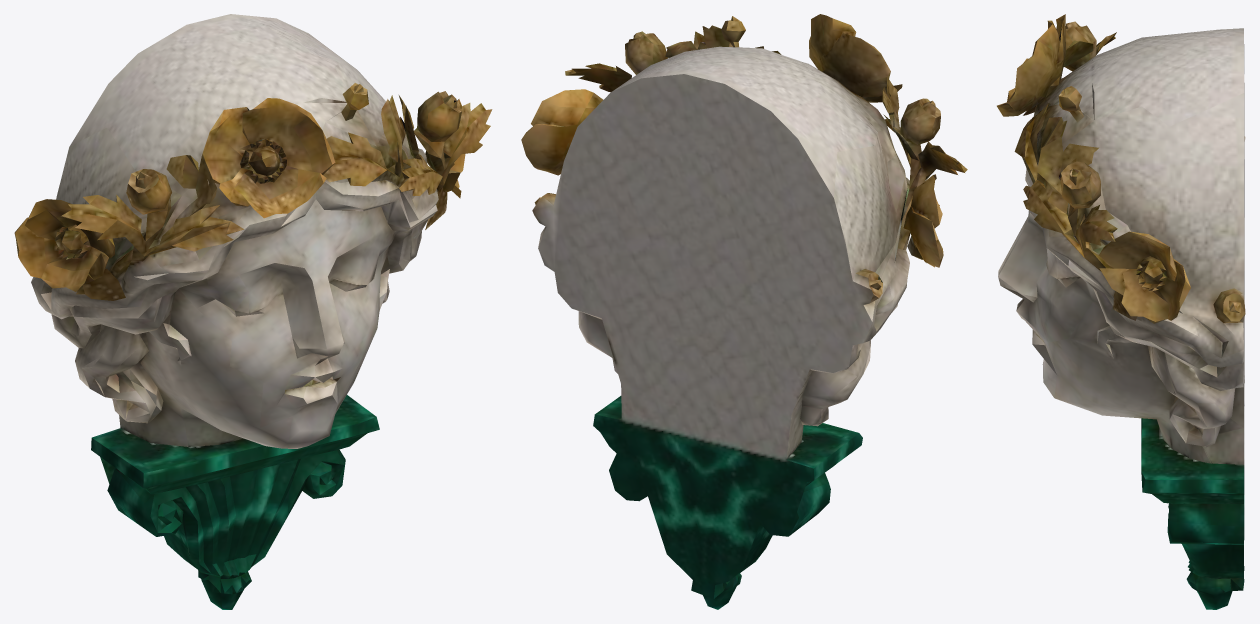
File: P12_mask_game.glb
The picture shows the model from 3 angles, left to right: view 1: azimuth 30°, elevation 25°; view 2: azimuth 150°, elevation 25°; view 3: azimuth 270°, elevation 25°; orthographic projection. The views are drawn at different scales.
Visible parts, largest first — view 1: P12_mask; view 2: P12_mask; view 3: P12_mask.
Part boxes in pixels (<box>): P12_mask: <box>14,14,492,609</box>; P12_mask: <box>521,14,967,609</box>; P12_mask: <box>997,14,1245,609</box>.
Size of the model in its own units: 0.363 by 0.4505 by 0.1792.
1 material, 1 textured.
